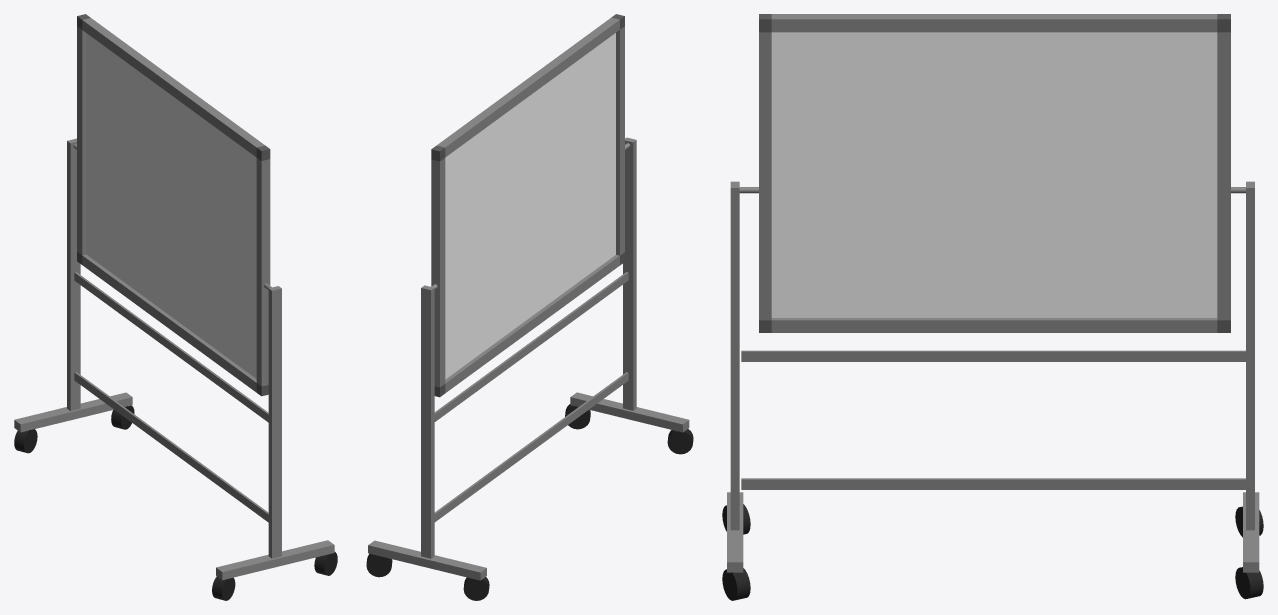
File: whiteboard.glb
The picture shows the model from 3 angles, left to right: view 1: azimuth 30°, elevation 25°; view 2: azimuth 150°, elevation 25°; view 3: azimuth 270°, elevation 25°; orthographic projection. The views are drawn at different scales.
Visible parts, largest first — view 1: pCube1, pCube3; view 2: pCube1, pCube3; view 3: pCube1, pCube3.
Part boxes in pixels (bbox=[...]): pCube1: bbox=[77, 14, 270, 396]; pCube3: bbox=[14, 138, 337, 600]; pCube1: bbox=[431, 14, 624, 397]; pCube3: bbox=[366, 137, 693, 600]; pCube1: bbox=[759, 14, 1230, 332]; pCube3: bbox=[722, 181, 1263, 600].
Size of the model in its own units: 4.62 by 15 by 13.39.
4 materials, 1 textured.
